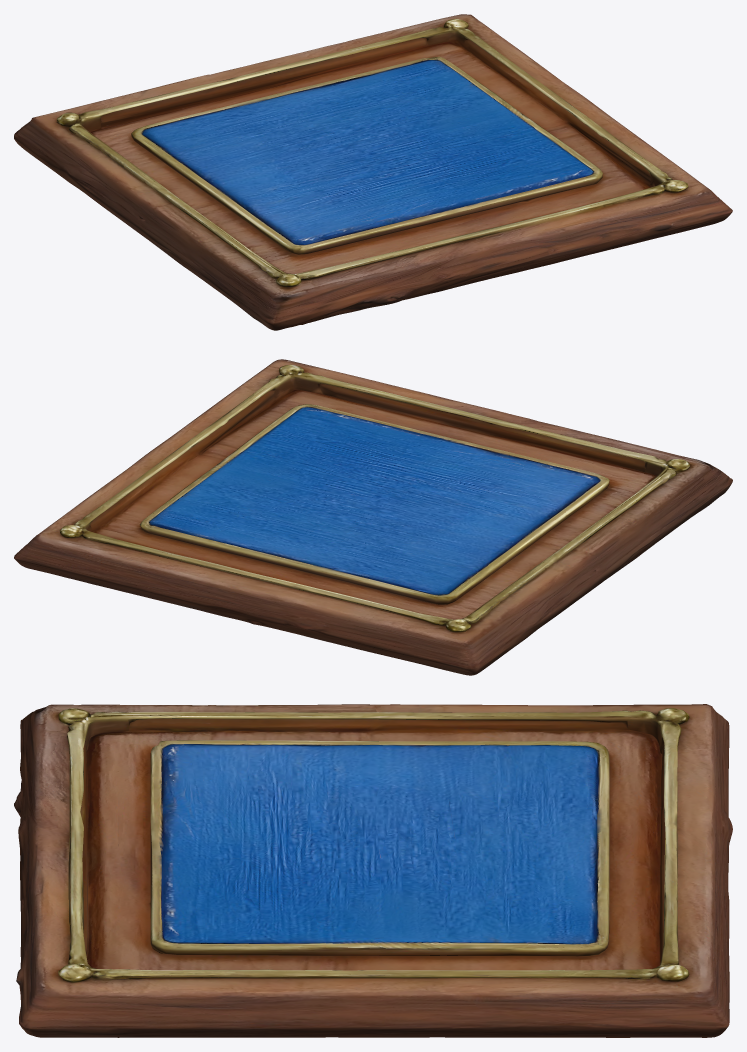
The model's file is plate.glb.
The picture shows the model from 3 angles, top to bottom: view 1: azimuth 30°, elevation 25°; view 2: azimuth 150°, elevation 25°; view 3: azimuth 270°, elevation 25°; orthographic projection. The views are drawn at different scales.
Parts seen in each view (by area): view 1: tripo_node_2db9d0be-8eb5-4bc0-9aa8-b89722adc57e; view 2: tripo_node_2db9d0be-8eb5-4bc0-9aa8-b89722adc57e; view 3: tripo_node_2db9d0be-8eb5-4bc0-9aa8-b89722adc57e.
Boxes of the visible parts, bbox=[...] form: tripo_node_2db9d0be-8eb5-4bc0-9aa8-b89722adc57e: bbox=[14, 14, 732, 330]; tripo_node_2db9d0be-8eb5-4bc0-9aa8-b89722adc57e: bbox=[14, 359, 732, 675]; tripo_node_2db9d0be-8eb5-4bc0-9aa8-b89722adc57e: bbox=[14, 704, 732, 1037].
Bounding box in the file's own units: 0.26 × 0.02 × 0.256.
1 material, 1 textured.
